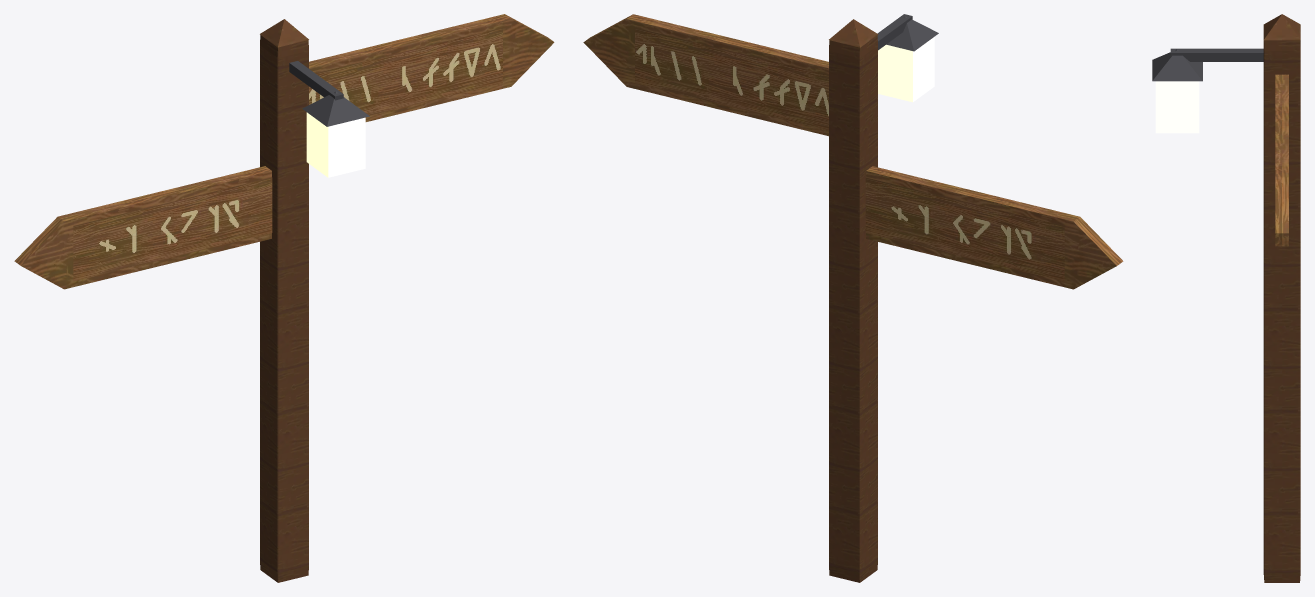
File: signpost.glb
3 renders of one model, left to right at view 1: azimuth 30°, elevation 25°; view 2: azimuth 150°, elevation 25°; view 3: azimuth 270°, elevation 25°, orthographic.
Parts seen in each view (by area): view 1: box; view 2: box; view 3: box.
Boxes of the visible parts, x1,y1,x2,y2 form: box: (14,14,554,582); box: (583,14,1123,582); box: (1152,14,1300,582).
Bounding box in the file's own units: 1.95 × 1.94 × 0.4642.
Materials: 8 (6 with a texture image).
